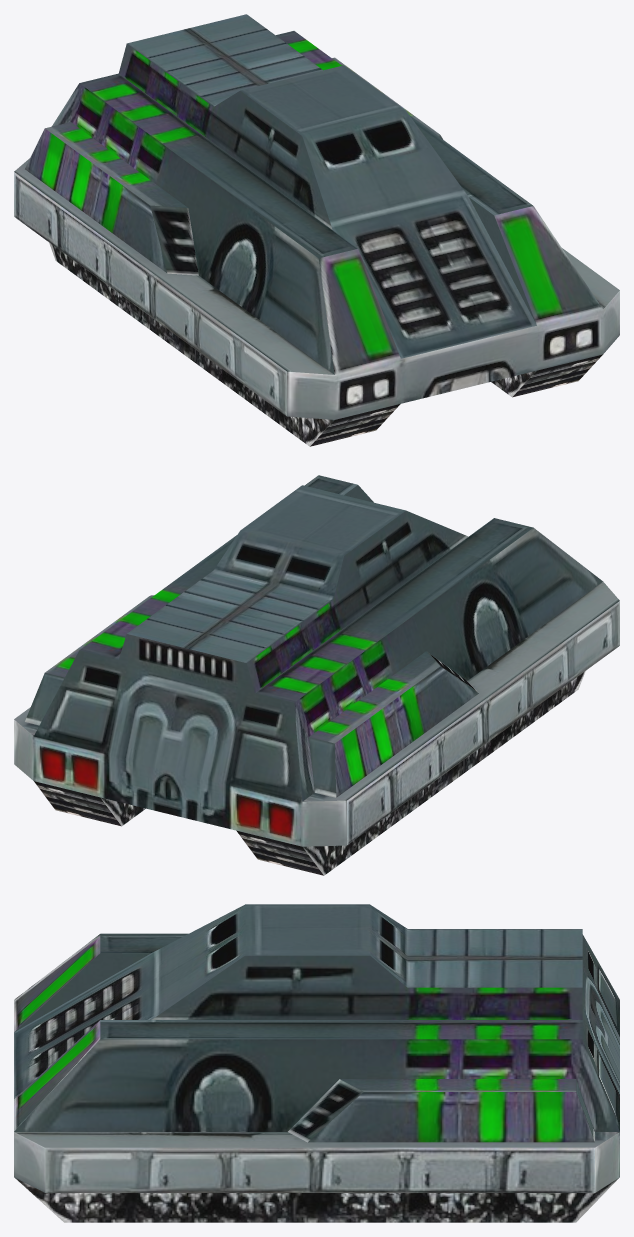
File: trooptransportprop_hdtex.glb
3 renders of one model, top to bottom at view 1: azimuth 30°, elevation 25°; view 2: azimuth 150°, elevation 25°; view 3: azimuth 270°, elevation 25°, orthographic.
Visible parts, largest first — view 1: heavy_apc; view 2: heavy_apc; view 3: heavy_apc.
Part boxes in pixels (x1=…): heavy_apc: x1=14, y1=14, x2=619, y2=446; heavy_apc: x1=14, y1=475, x2=619, y2=875; heavy_apc: x1=14, y1=904, x2=619, y2=1222.
Bounding box in the file's own units: 4.34 × 2.8 × 6.78.
Materials: 1 (1 with a texture image).
